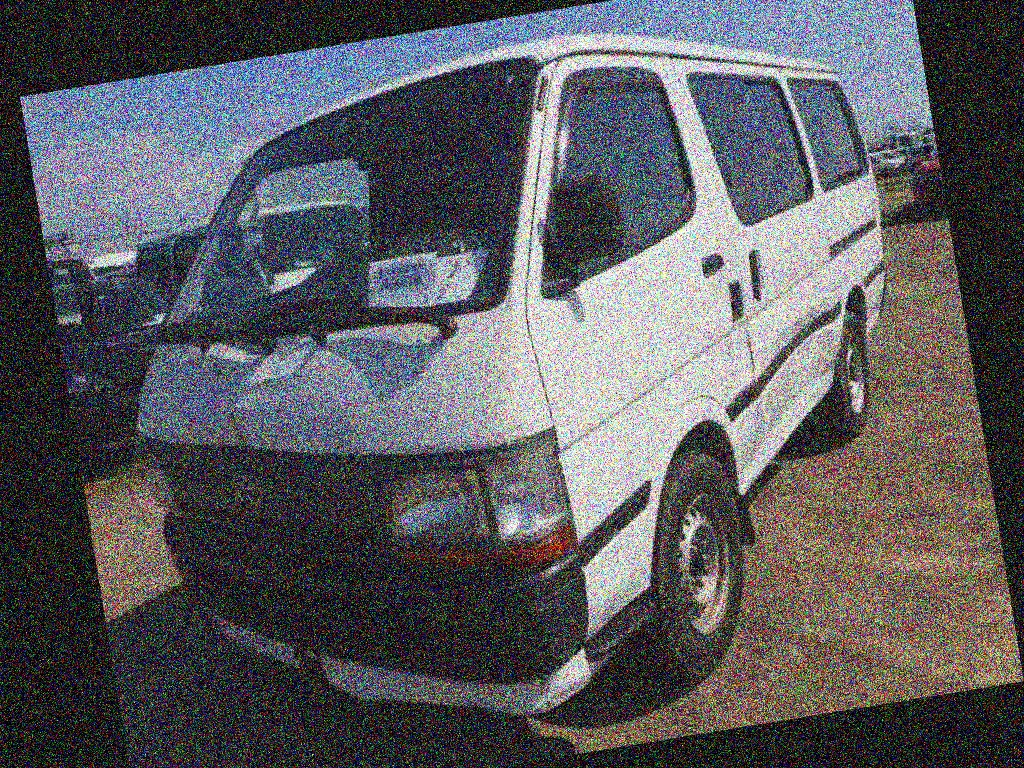van: (83, 0, 944, 765)
